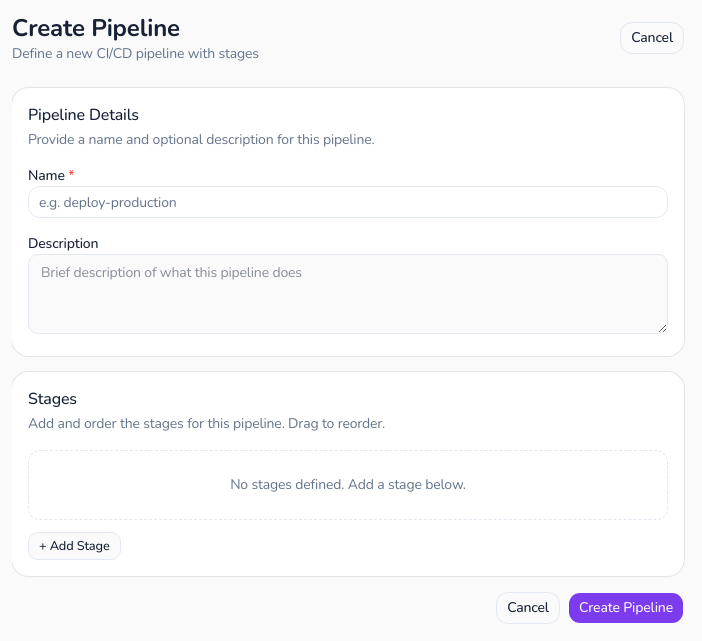
Test: PipelineFormClient › disables the submit button while submitting
Type "deploy-prod" into the field labelled "Name *" at (348, 202), box [28,186,668,218]
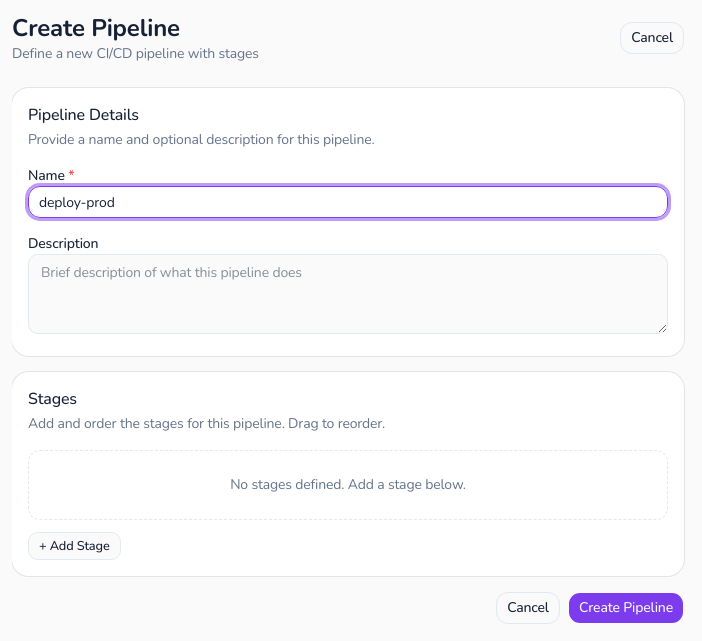
Click the button "Create Pipeline" at (626, 608), box [568,592,684,624]
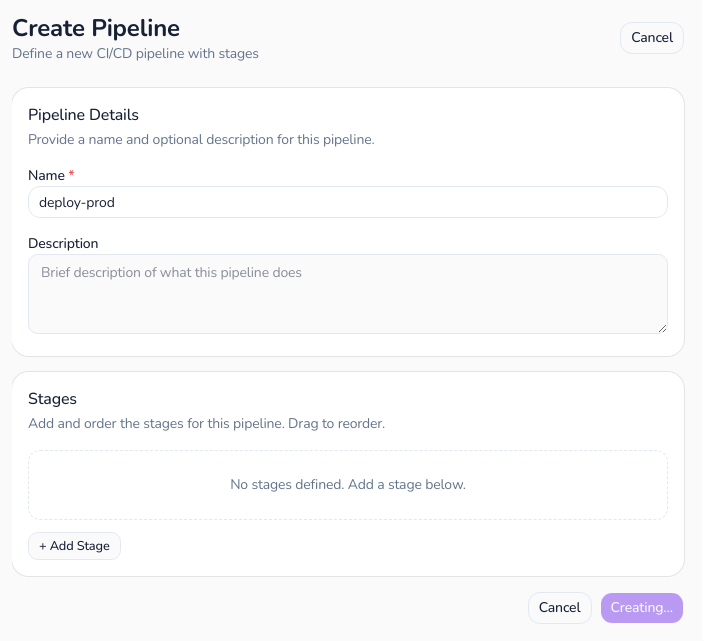
expect the button "Creating…" is disabled: met, box [600,592,684,624]
